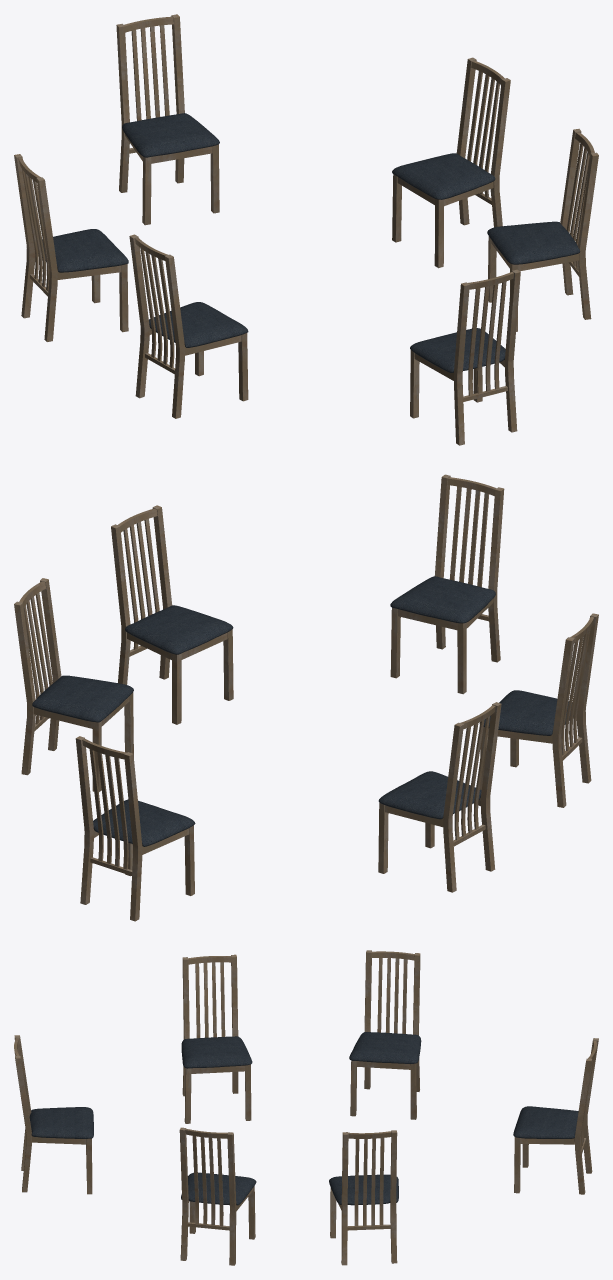
Rendered from Chairs.fbx.
3 views of the same model, one above another, from view 1: azimuth 30°, elevation 25°; view 2: azimuth 150°, elevation 25°; view 3: azimuth 270°, elevation 25° (orthographic). The views are drawn at different scales.
Parts seen in each view (by area): view 1: Chair_04, Chair_06, Chair_03, Chair_05, Chair_02, Chair_01, Cushion_05, Cushion_03, Cushion_01, Cushion_02, Cushion_06, Cushion_04; view 2: Chair_03, Chair_04, Chair_02, Chair_01, Chair_05, Chair_06, Cushion_01, Cushion_04, Cushion_05, Cushion_02, Cushion_06, Cushion_03; view 3: Chair_01, Chair_05, Chair_02, Chair_06, Chair_03, Cushion_06, Cushion_02, Chair_04, Cushion_04, Cushion_03, Cushion_01, Cushion_05.
Boxes of the visible parts, <box> form: Chair_04: <box>410,269,520,445</box>; Chair_06: <box>129,234,248,418</box>; Chair_03: <box>116,14,219,225</box>; Chair_05: <box>392,57,510,268</box>; Chair_02: <box>14,154,128,341</box>; Chair_01: <box>488,128,598,331</box>; Cushion_05: <box>392,153,495,199</box>; Cushion_03: <box>122,113,219,157</box>; Cushion_01: <box>487,221,580,264</box>; Cushion_02: <box>38,229,128,272</box>; Cushion_06: <box>149,302,248,347</box>; Cushion_04: <box>410,328,505,372</box>; Chair_03: <box>75,736,194,921</box>; Chair_04: <box>390,474,504,694</box>; Chair_02: <box>378,702,501,892</box>; Chair_01: <box>111,505,233,724</box>; Chair_05: <box>14,578,133,791</box>; Chair_06: <box>480,613,598,807</box>; Cushion_01: <box>125,605,233,654</box>; Cushion_04: <box>390,576,495,623</box>; Cushion_05: <box>32,675,133,722</box>; Cushion_02: <box>378,771,481,819</box>; Cushion_06: <box>479,690,573,735</box>; Cushion_03: <box>93,799,195,846</box>; Chair_01: <box>179,1127,255,1265</box>; Chair_05: <box>330,1130,397,1265</box>; Chair_02: <box>350,950,420,1119</box>; Chair_06: <box>182,954,251,1123</box>; Chair_03: <box>514,1038,598,1194</box>; Cushion_06: <box>181,1036,252,1068</box>; Cushion_02: <box>349,1032,421,1063</box>; Chair_04: <box>14,1035,92,1194</box>; Cushion_04: <box>29,1107,93,1138</box>; Cushion_03: <box>513,1106,578,1138</box>; Cushion_01: <box>181,1172,256,1205</box>; Cushion_05: <box>329,1174,398,1205</box>.
Bounding box in the file's own units: 3.52 × 1.2 × 4.71.
